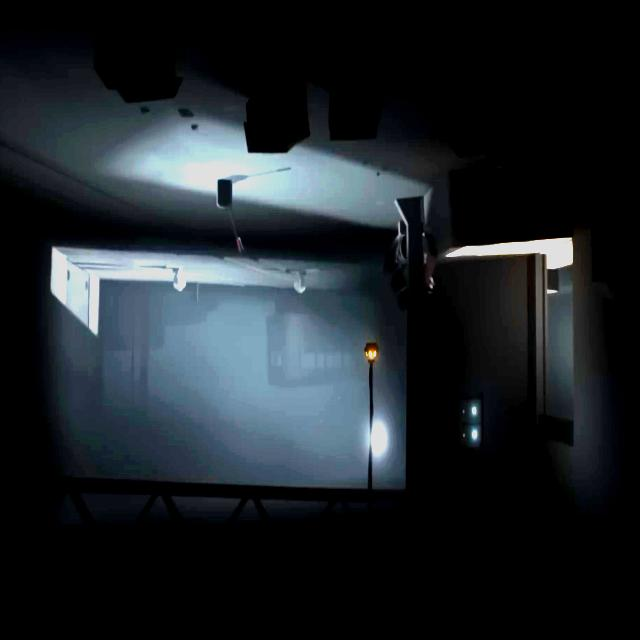interactible: (217, 179, 244, 254), (364, 344, 379, 361)
zombie: (422, 225, 434, 293), (290, 269, 306, 293), (172, 267, 186, 291)
